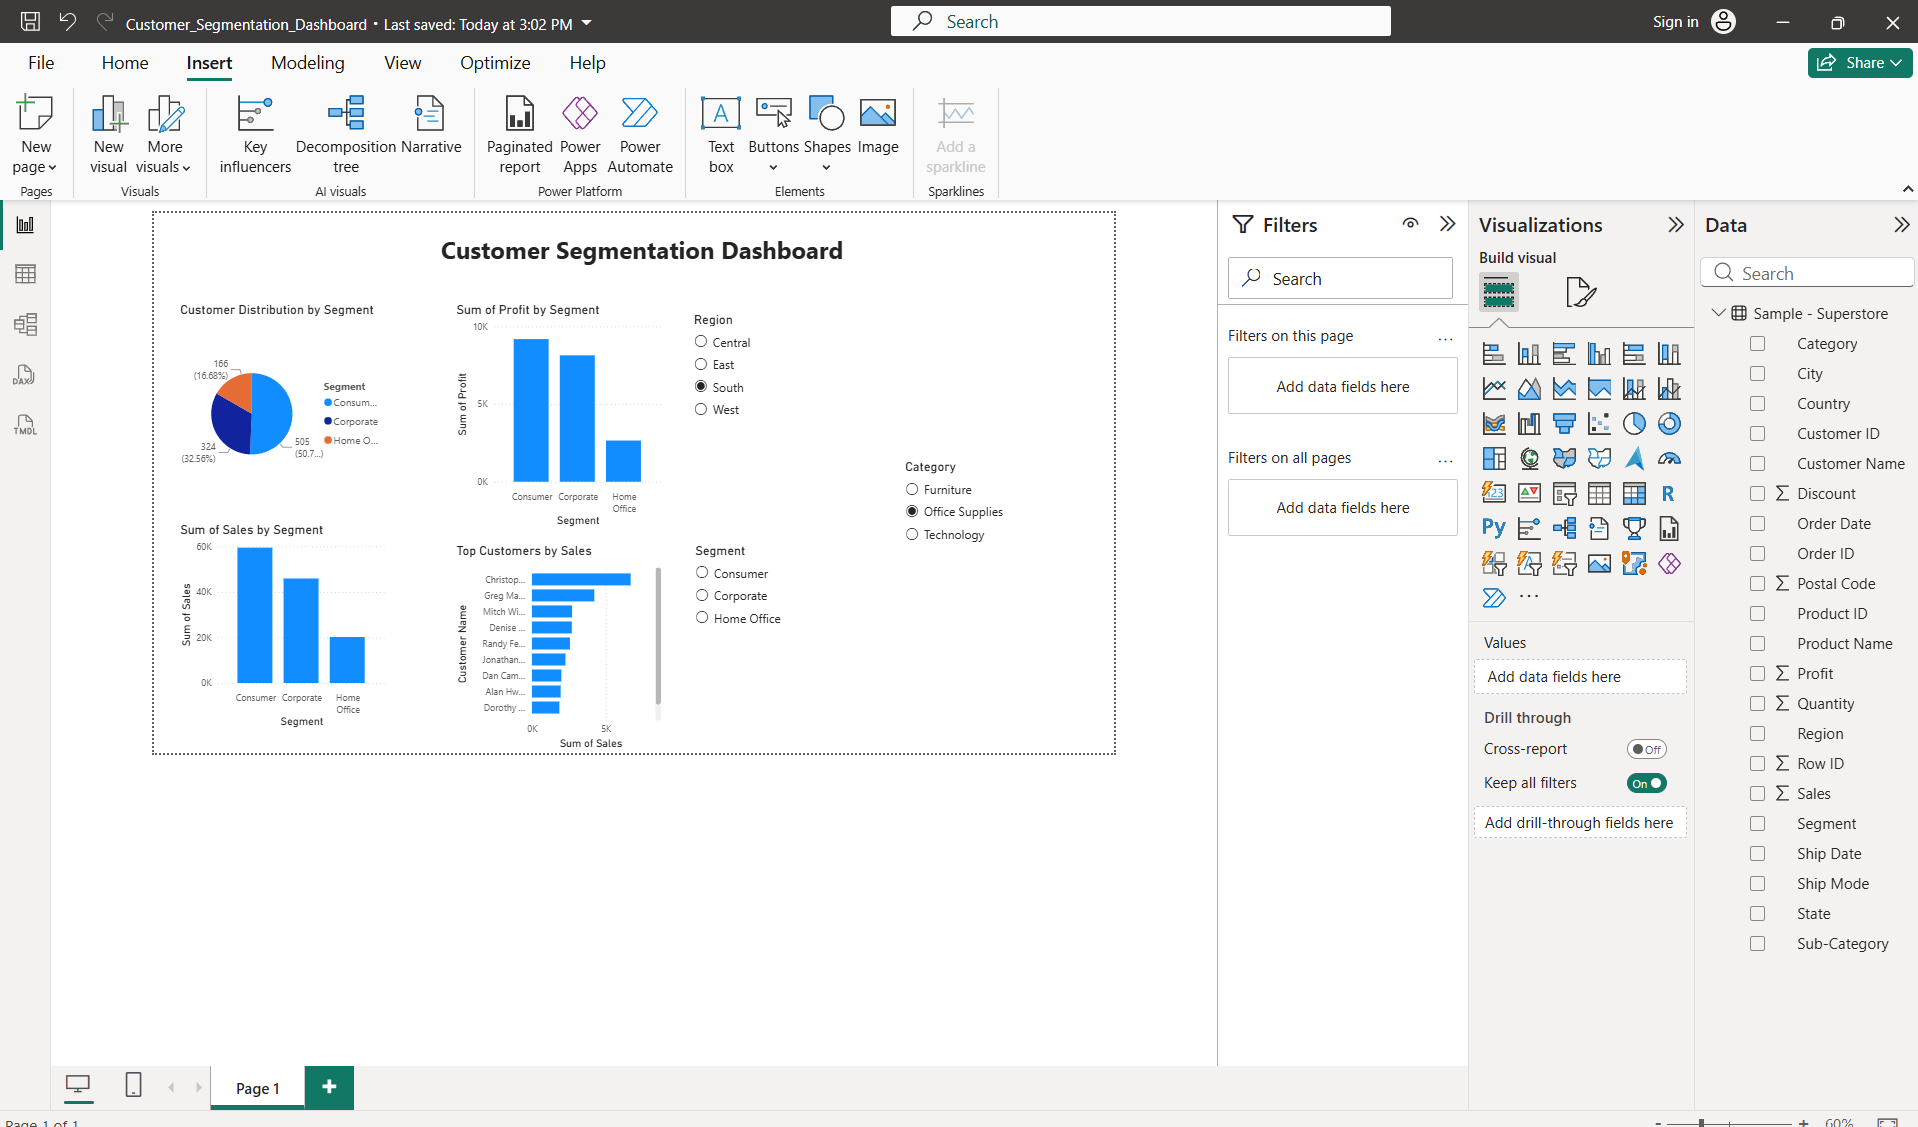

The page's visual inventory and layout, read from the dashboard file:
{"tool":"powerbi","page":{"name":"Page 1","canvas":[1280,720],"ordinal":0},"visuals":[{"type":"pieChart","title":"Customer Distribution by Segment","fields":{"Category":["Sample - Superstore.Segment"],"Y":["CountNonNull(Sample - Superstore.Customer Name)"]},"box":[30,118.3,283.3,280],"z":0},{"type":"clusteredColumnChart","fields":{"Category":["Sample - Superstore.Segment"],"Y":["Sum(Sample - Superstore.Sales)"]},"box":[30,411.7,283.3,280],"z":1000},{"type":"clusteredColumnChart","fields":{"Category":["Sample - Superstore.Segment"],"Y":["Sum(Sample - Superstore.Profit)"]},"box":[398.3,118.3,283.3,305],"z":2000},{"type":"clusteredBarChart","title":"Top Customers by Sales","fields":{"Category":["Sample - Superstore.Customer Name"],"Y":["Sum(Sample - Superstore.Sales)"]},"box":[398.3,440,283.3,280],"z":3000},{"type":"listSlicer","fields":{"Values":["Sample - Superstore.Region"]},"box":[715,131.7,281.7,280],"z":4000},{"type":"listSlicer","fields":{"Values":["Sample - Superstore.Segment"]},"box":[716.7,440,281.7,280],"z":5000},{"type":"listSlicer","fields":{"Values":["Sample - Superstore.Category"]},"box":[996.7,328.3,283.3,280],"z":6000},{"type":"textbox","box":[368.3,21.7,565,71.7],"z":7000}]}

Visuals, with their boxes on the page's 1280x720 design canvas (x1, y1, x2, y2). These are canvas units, not pixel positions in the 1918x1127 screenshot, which may show the page scaled, cropped or inside an application window:
"Customer Distribution by Segment" pieChart: select_region(30, 118, 313, 398)
clusteredColumnChart - Sample - Superstore.Segment x Sum(Sample - Superstore.Sales): select_region(30, 412, 313, 692)
clusteredColumnChart - Sample - Superstore.Segment x Sum(Sample - Superstore.Profit): select_region(398, 118, 682, 423)
"Top Customers by Sales" clusteredBarChart: select_region(398, 440, 682, 720)
listSlicer - Sample - Superstore.Region: select_region(715, 132, 997, 412)
listSlicer - Sample - Superstore.Segment: select_region(717, 440, 998, 720)
listSlicer - Sample - Superstore.Category: select_region(997, 328, 1280, 608)
textbox: select_region(368, 22, 933, 93)
